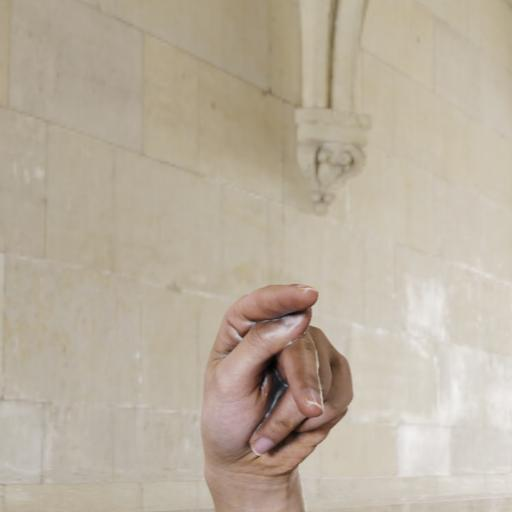P: (200, 278, 357, 502)
